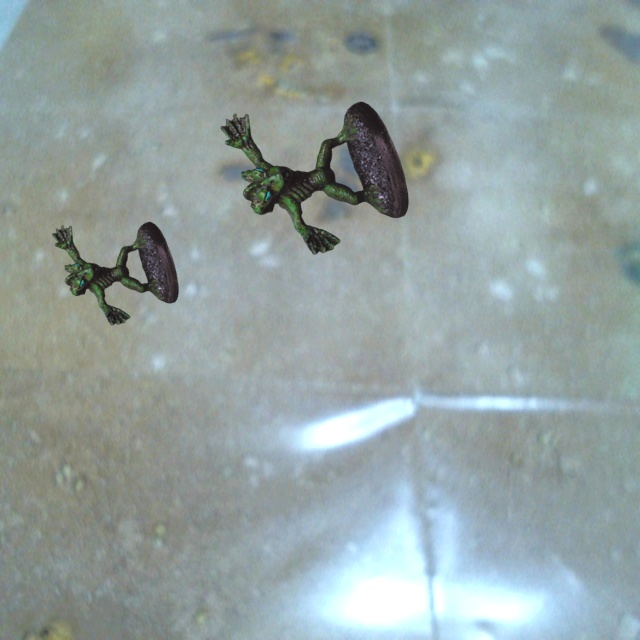pieza_juego: (220, 102, 408, 254), (52, 222, 178, 325)
